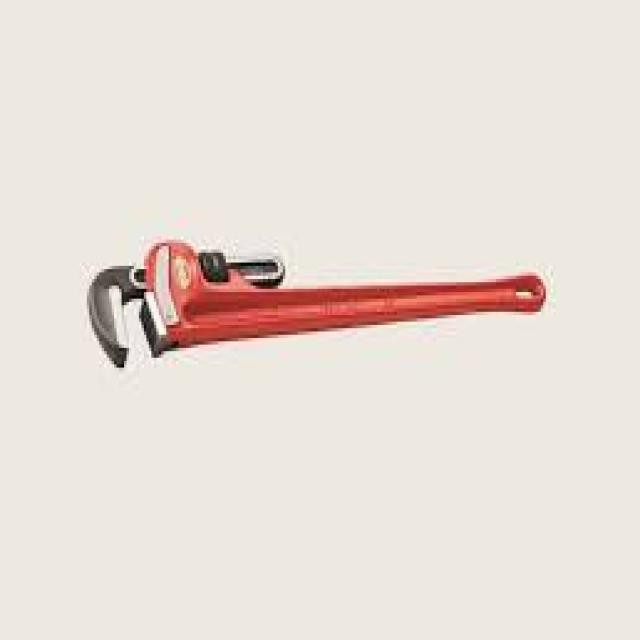wrench: (80, 225, 551, 376)
